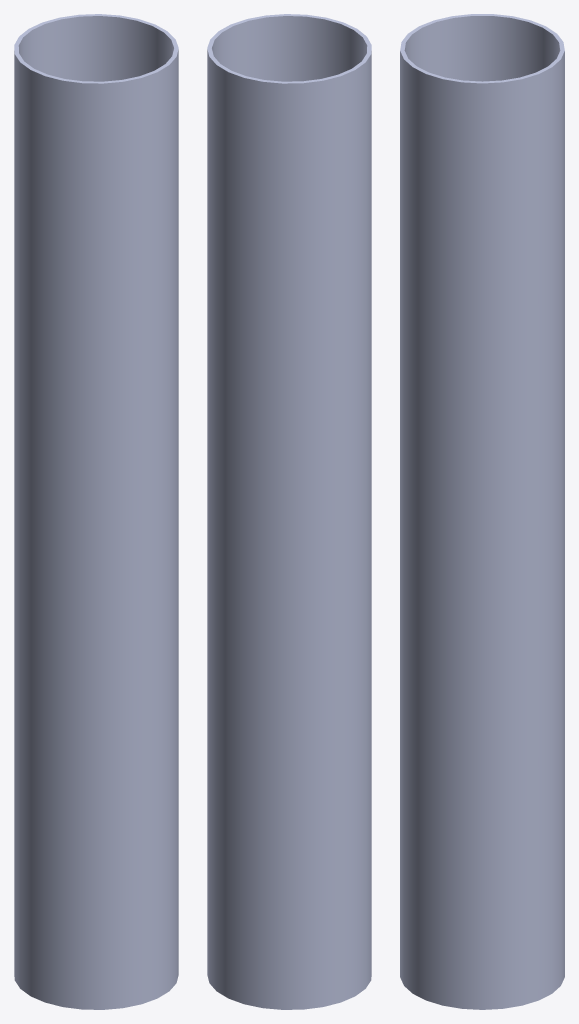
The model's file is inner_motor_tube.obj.
3 renders of one model, left to right at view 1: azimuth 30°, elevation 25°; view 2: azimuth 150°, elevation 25°; view 3: azimuth 270°, elevation 25°, orthographic.
Visible parts, largest first — view 1: mesh_1_inner_mot; view 2: mesh_1_inner_mot; view 3: mesh_1_inner_mot.
Part boxes in pixels (bbox=[...]): mesh_1_inner_mot: bbox=[14, 14, 178, 1009]; mesh_1_inner_mot: bbox=[207, 14, 371, 1009]; mesh_1_inner_mot: bbox=[400, 14, 564, 1009].
Bounding box in the file's own units: 0.0572 × 0.3556 × 0.0573.
